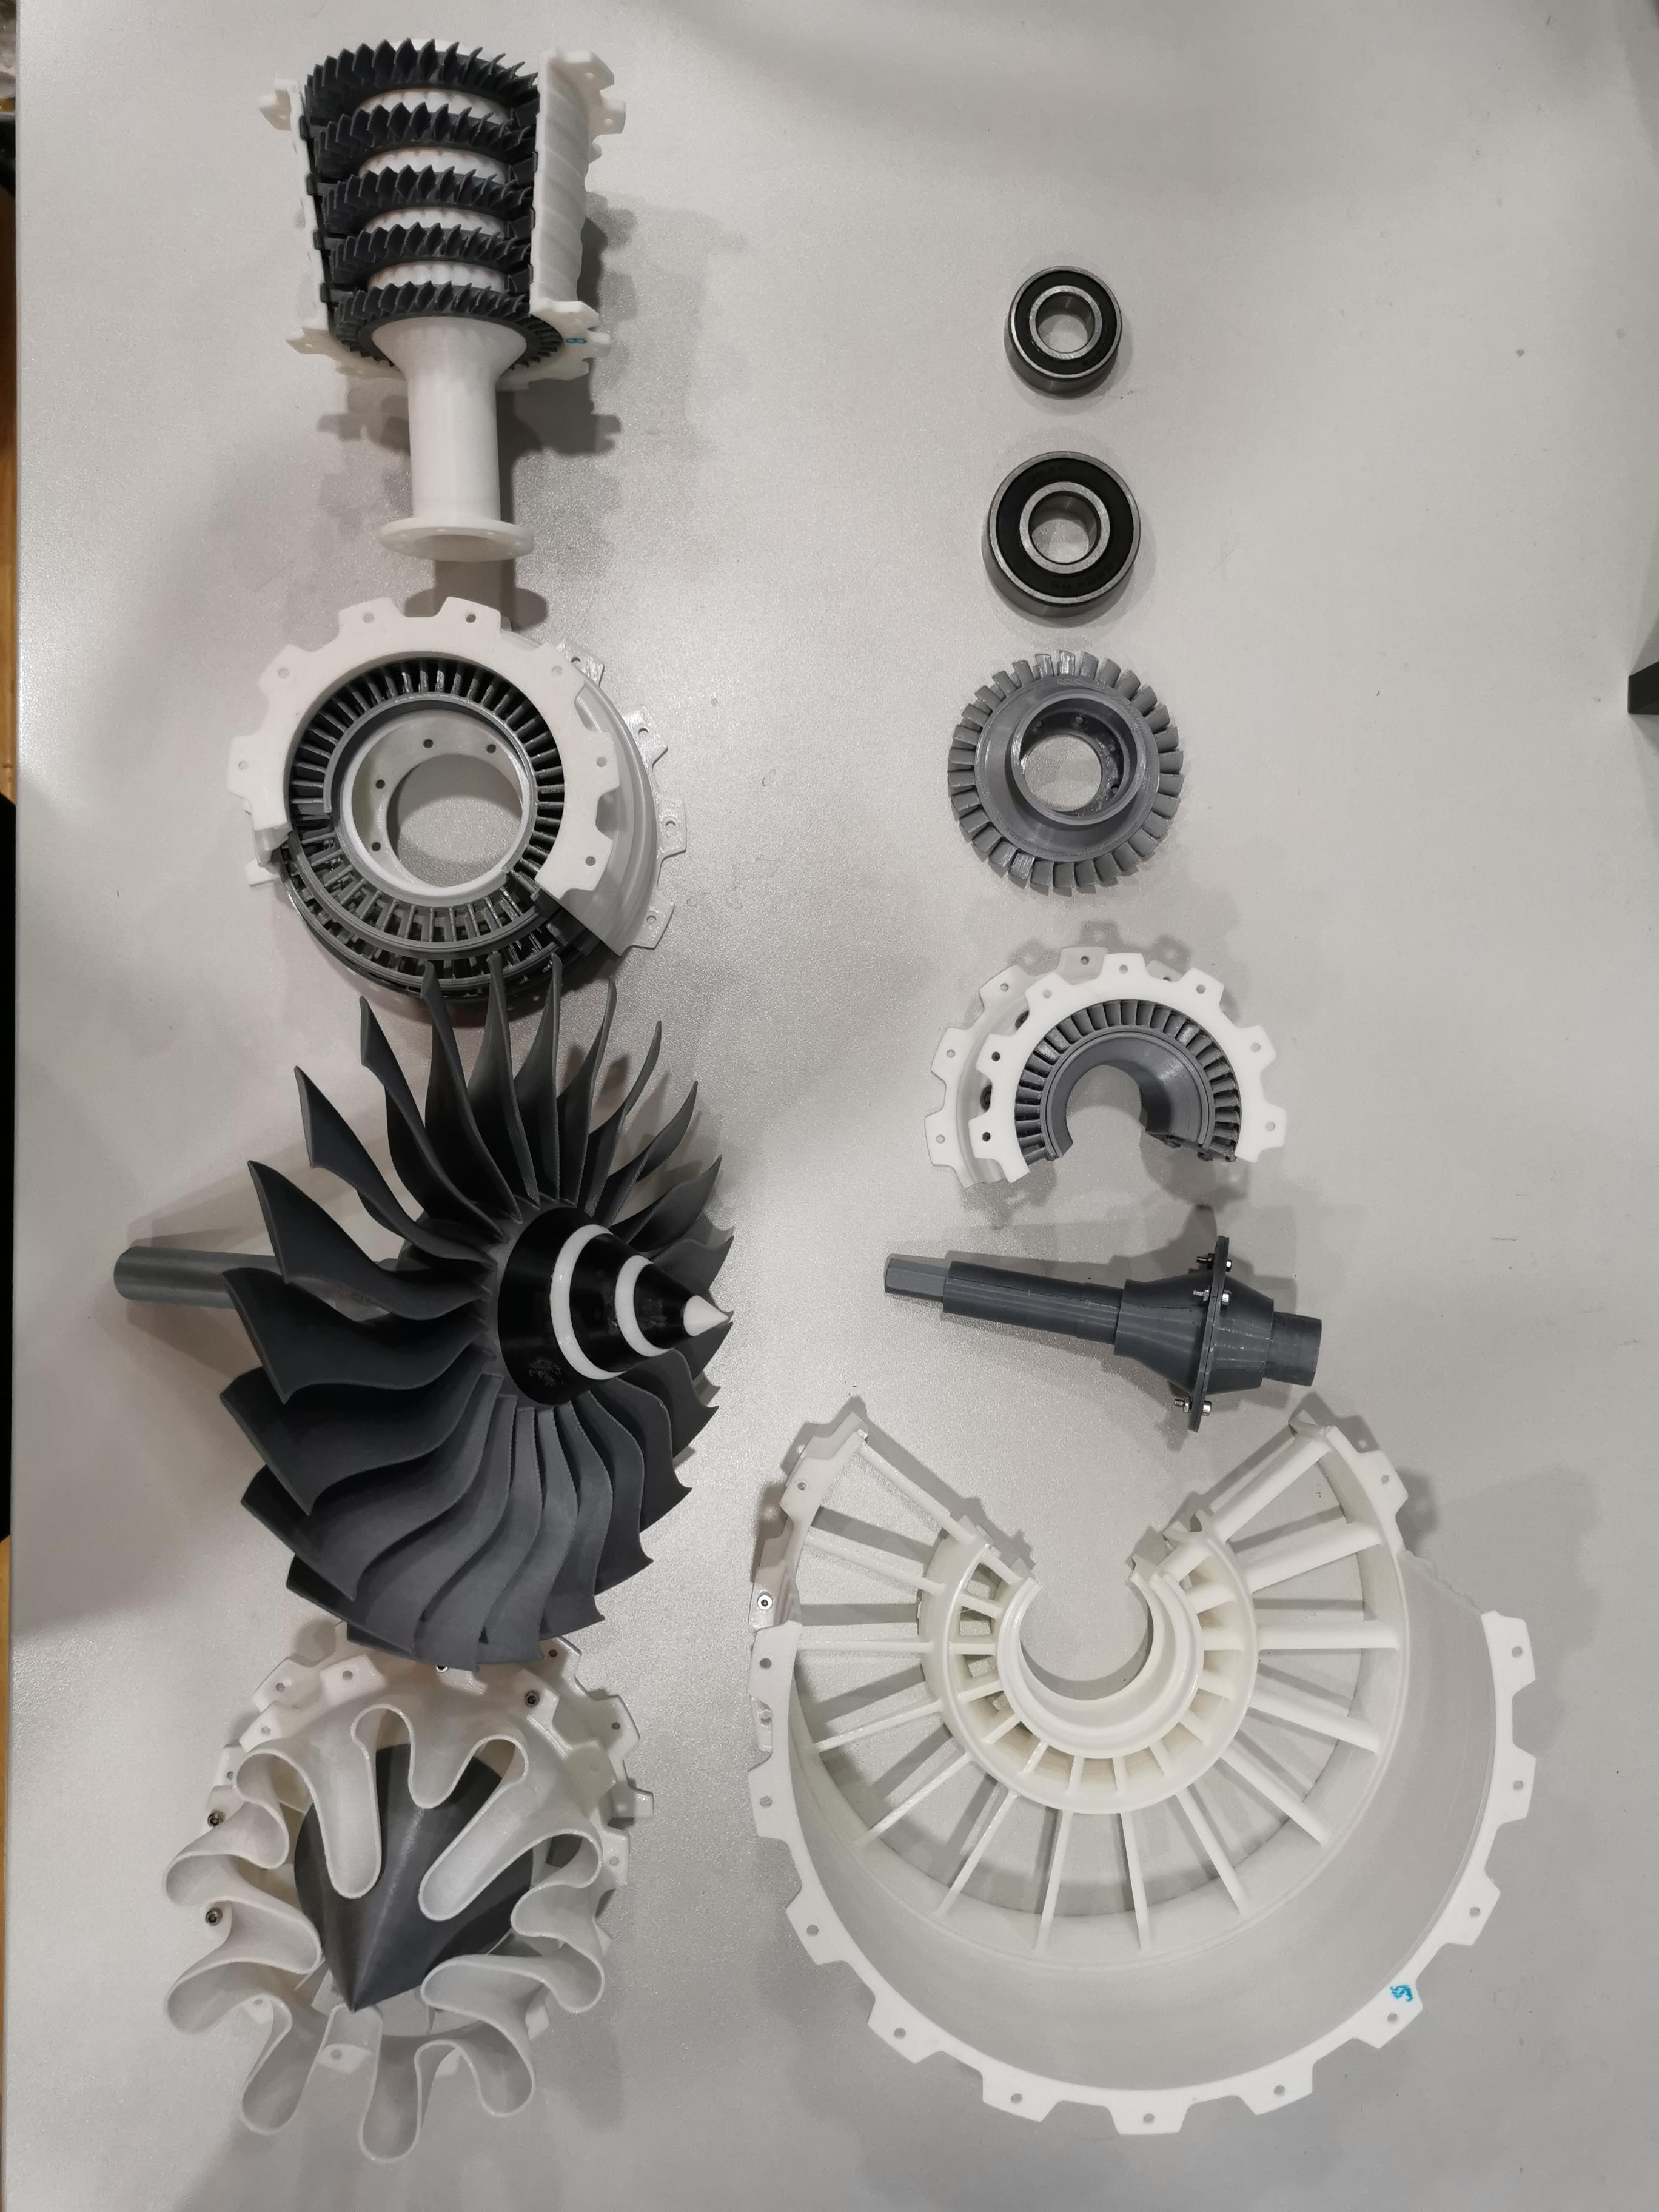Bearing-6003: (964, 228, 1159, 406)
Bearing-6204: (957, 446, 1166, 631)
Combustion Section: (911, 932, 1314, 1205)
Fan Casing and Support: (742, 1404, 1547, 2144)
Fan and Low Pressure Shaft: (108, 949, 741, 1676)
HPT Section: (936, 637, 1190, 913)
High Pressure Spool: (221, 30, 662, 582)
LPT Section: (211, 590, 695, 1014)
Low Pressure Spool: (857, 1212, 1359, 1432)
Nozzle Section: (143, 1625, 659, 2168)
